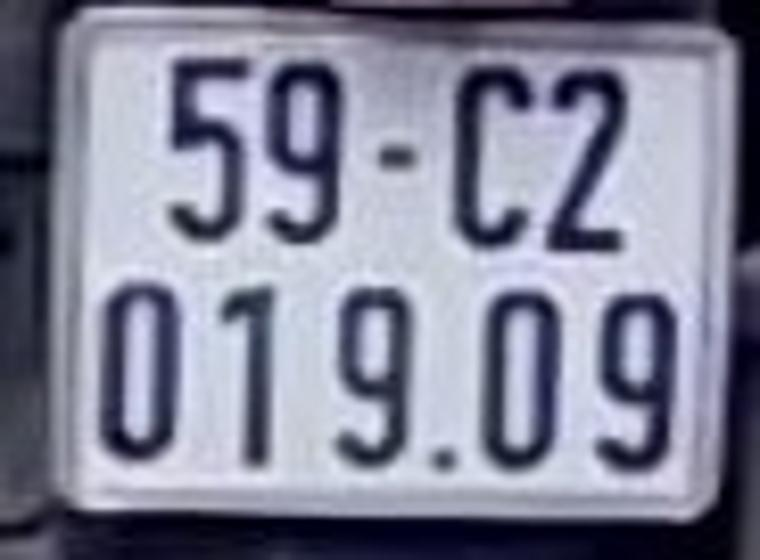-: (367, 136, 425, 185)
.: (428, 437, 458, 475)
0: (99, 281, 184, 459), (481, 286, 564, 463)
1: (220, 275, 288, 481)
2: (540, 65, 627, 256)
5: (166, 57, 262, 241)
9: (268, 60, 349, 248), (338, 282, 414, 471), (601, 288, 675, 473)
C: (442, 64, 537, 248)
